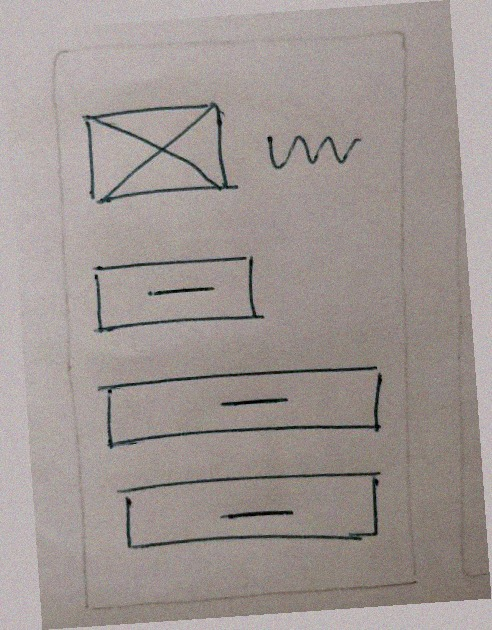button: (88, 356, 395, 456), (109, 461, 391, 563), (87, 249, 270, 343)
image: (75, 92, 247, 218)
text: (257, 124, 370, 178)
